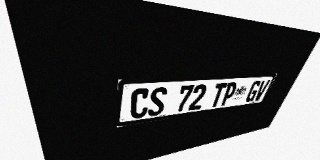2: (188, 84, 208, 111)
7: (174, 85, 194, 113)
C: (129, 88, 150, 119)
G: (244, 80, 262, 102)
P: (219, 82, 238, 106)
S: (147, 87, 168, 117)
T: (208, 83, 228, 108)
V: (253, 80, 270, 101)
